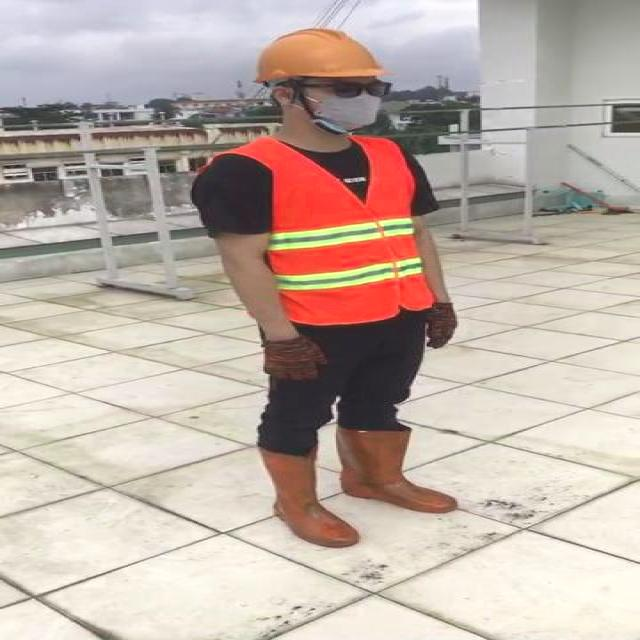boots: (336, 425, 457, 514), (260, 447, 358, 548)
face_mask: (307, 72, 392, 130)
glasses: (310, 74, 399, 102)
hand_glove: (265, 336, 325, 381), (428, 301, 457, 350)
head_helmet: (243, 29, 393, 85)
person: (189, 25, 474, 566)
vest: (261, 135, 425, 326)
